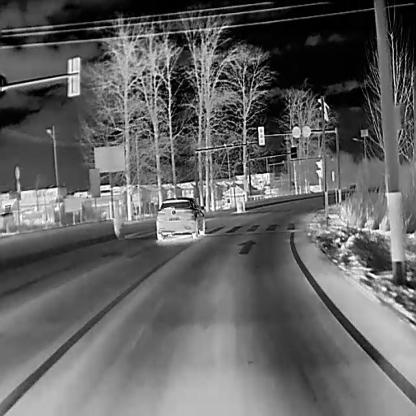car: (156, 196, 206, 240)
